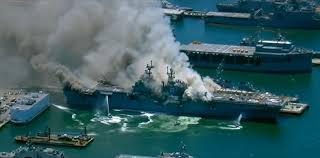tau_muctieu: (59, 64, 288, 120)
